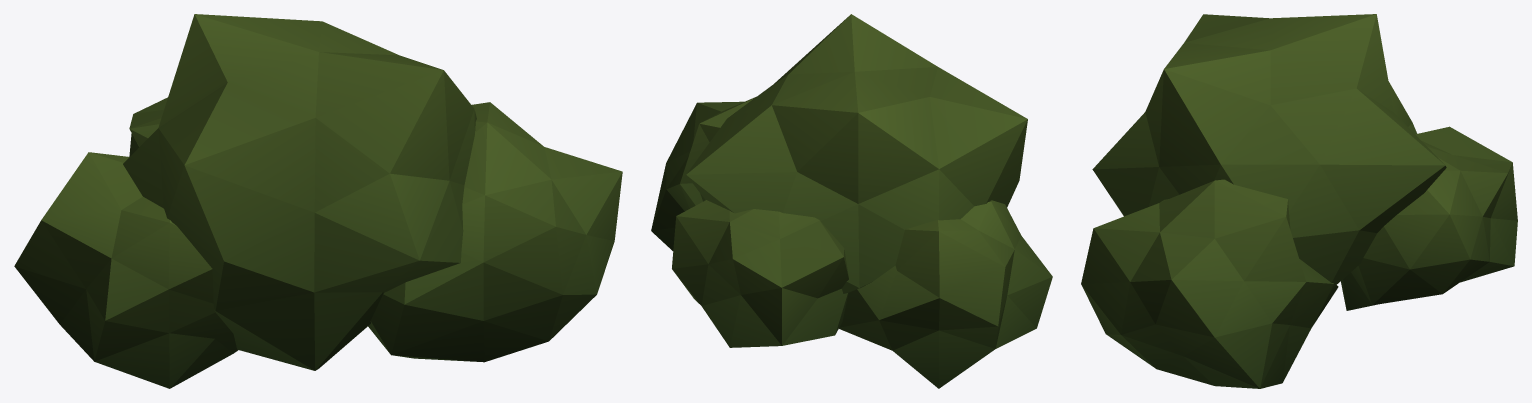
The model's file is arbusto-denso.glb.
3 renders of one model, left to right at view 1: azimuth 30°, elevation 25°; view 2: azimuth 150°, elevation 25°; view 3: azimuth 270°, elevation 25°, orthographic. The views are drawn at different scales.
Parts seen in each view (by area): view 1: arbusto-denso; view 2: arbusto-denso; view 3: arbusto-denso.
Part boxes in pixels (x1,y1,x2,y2): arbusto-denso: [14, 14, 622, 388]; arbusto-denso: [651, 14, 1052, 388]; arbusto-denso: [1081, 14, 1517, 388].
Bounding box in the file's own units: 1.83 × 1.14 × 1.57.
